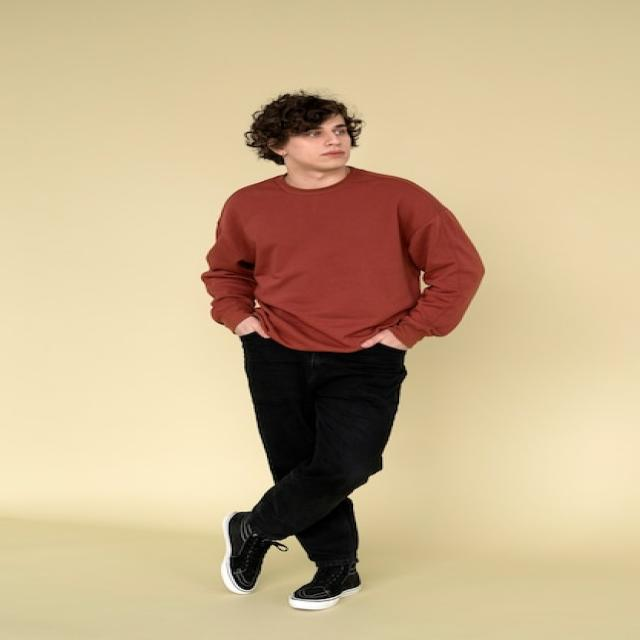Person: (202, 93, 484, 610)
